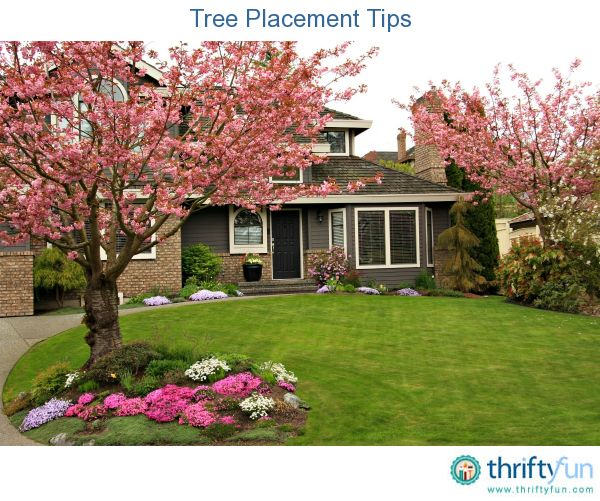tree: (1, 41, 395, 361), (388, 63, 600, 276)
